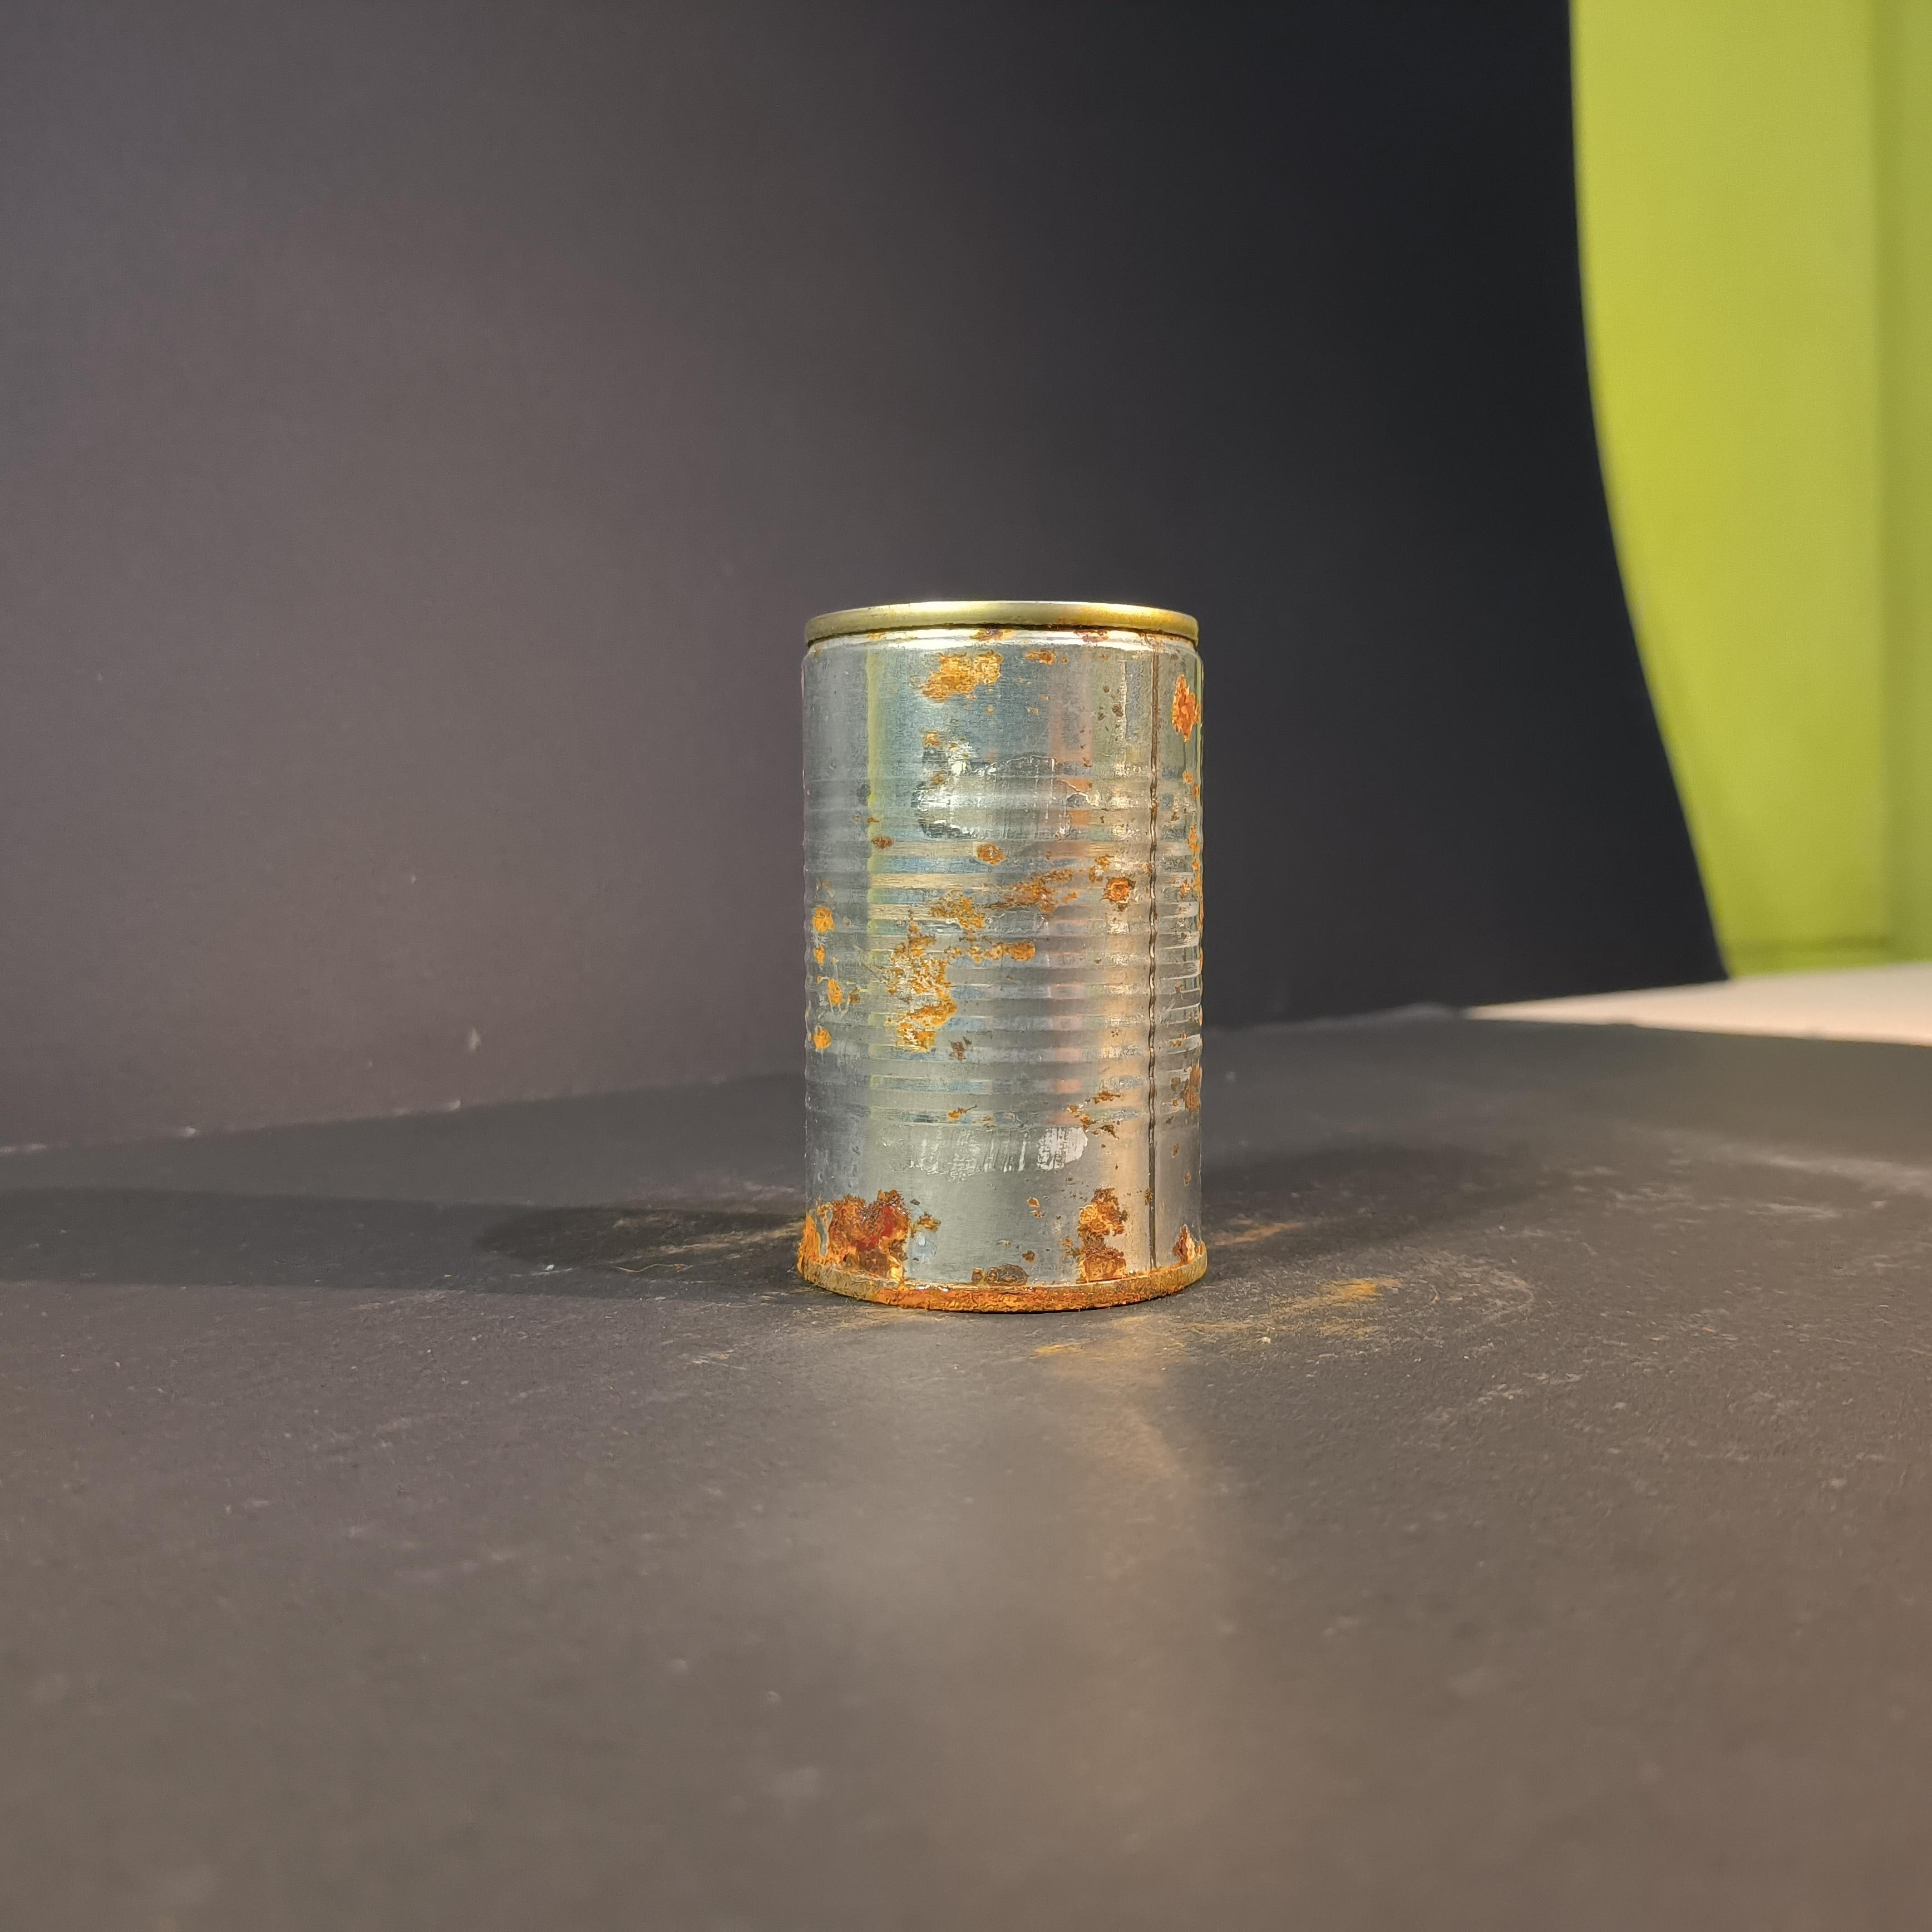Rusted: (778, 584, 1238, 1316)
